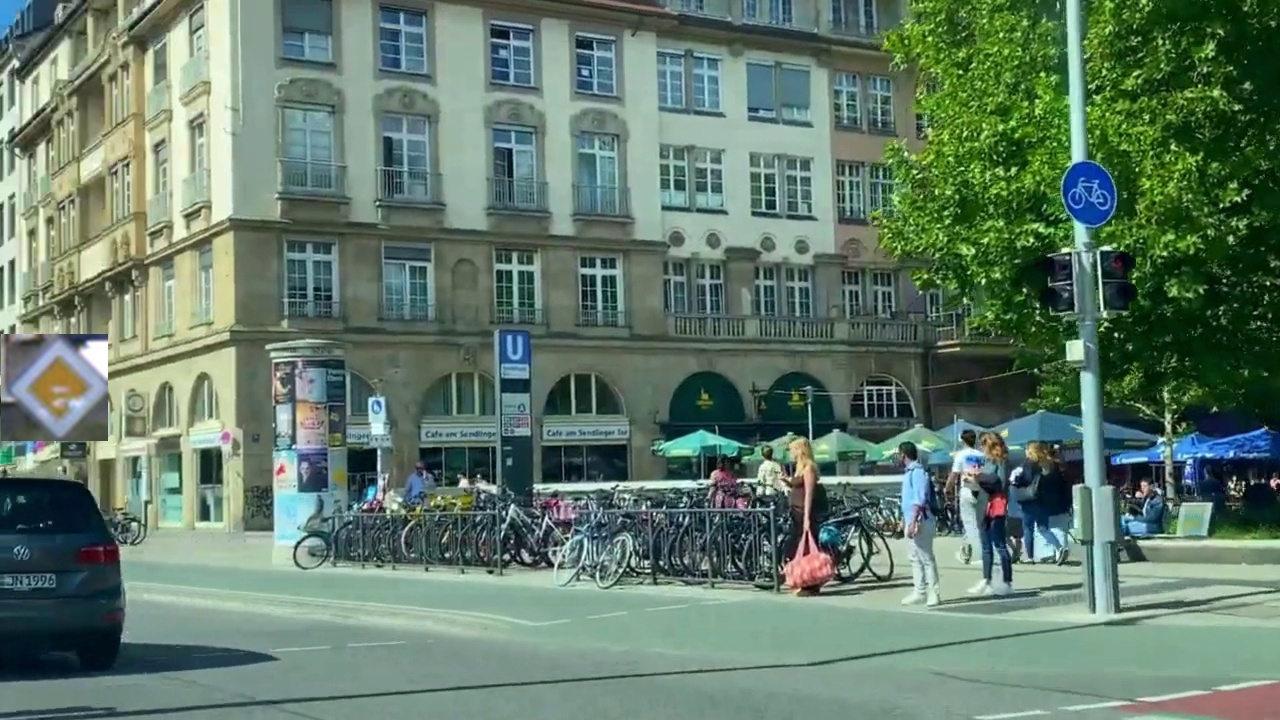Priority road: (1, 334, 108, 441)
